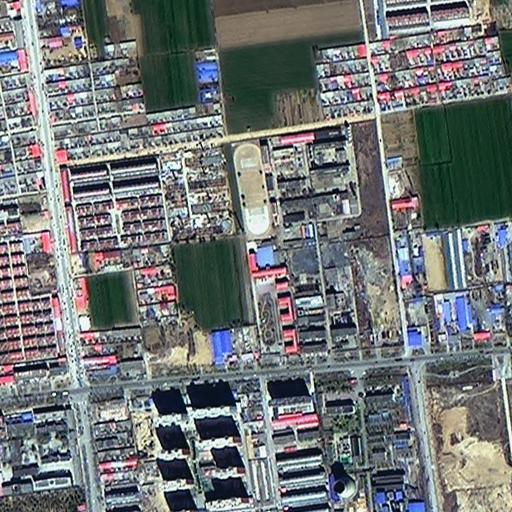school: (231, 134, 297, 361)
